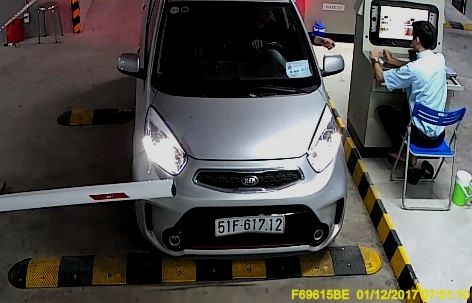plate: (214, 210, 285, 237)
